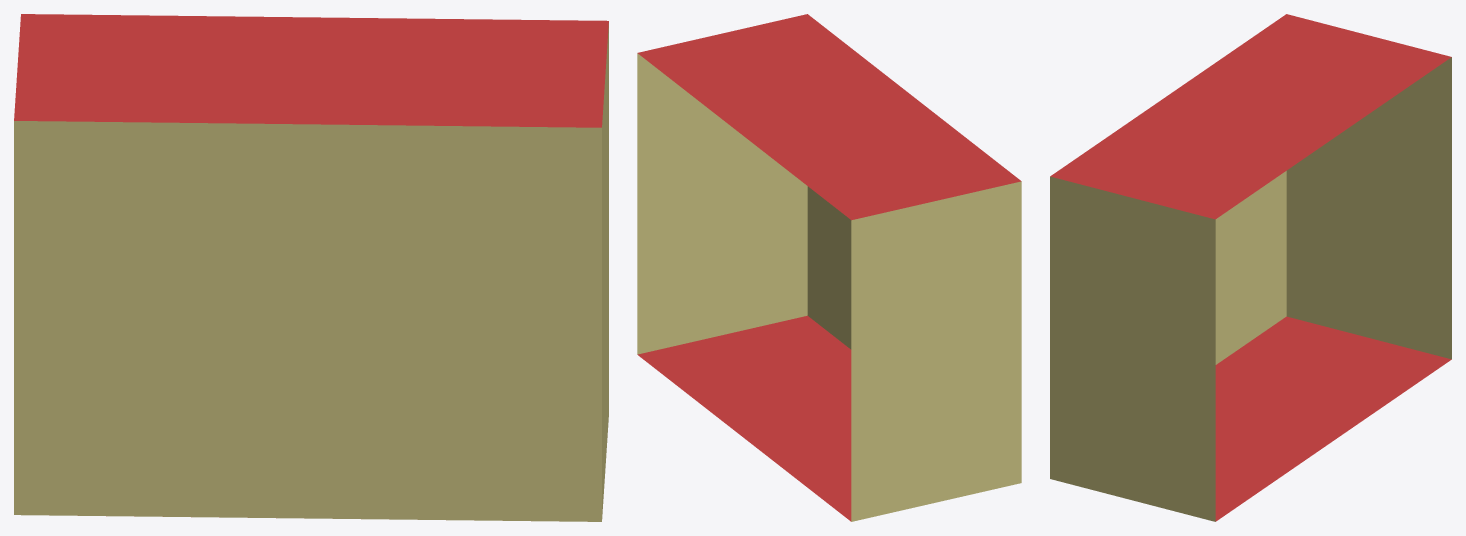
3 renders of one model, left to right at view 1: azimuth 30°, elevation 25°; view 2: azimuth 150°, elevation 25°; view 3: azimuth 270°, elevation 25°, orthographic. The views are drawn at different scales.
Parts seen in each view (by area): view 1: group_4, group_3; view 2: group_4, group_3, group_5; view 3: group_4, group_3, group_5.
Boxes of the visible parts, x1=… form: group_4: x1=14, y1=23, x2=608, y2=521; group_3: x1=14, y1=14, x2=608, y2=127; group_4: x1=637, y1=53, x2=1021, y2=521; group_3: x1=637, y1=14, x2=1021, y2=220; group_5: x1=637, y1=315, x2=851, y2=521; group_4: x1=1050, y1=57, x2=1451, y2=521; group_3: x1=1050, y1=14, x2=1451, y2=219; group_5: x1=1215, y1=316, x2=1451, y2=521.
Size of the model in its own units: 10.34 by 8.54 by 7.09.
